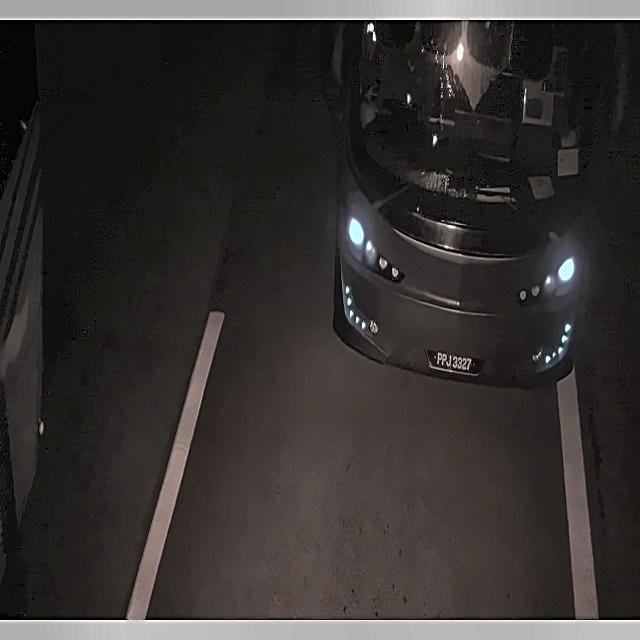car: (426, 338, 482, 383)
